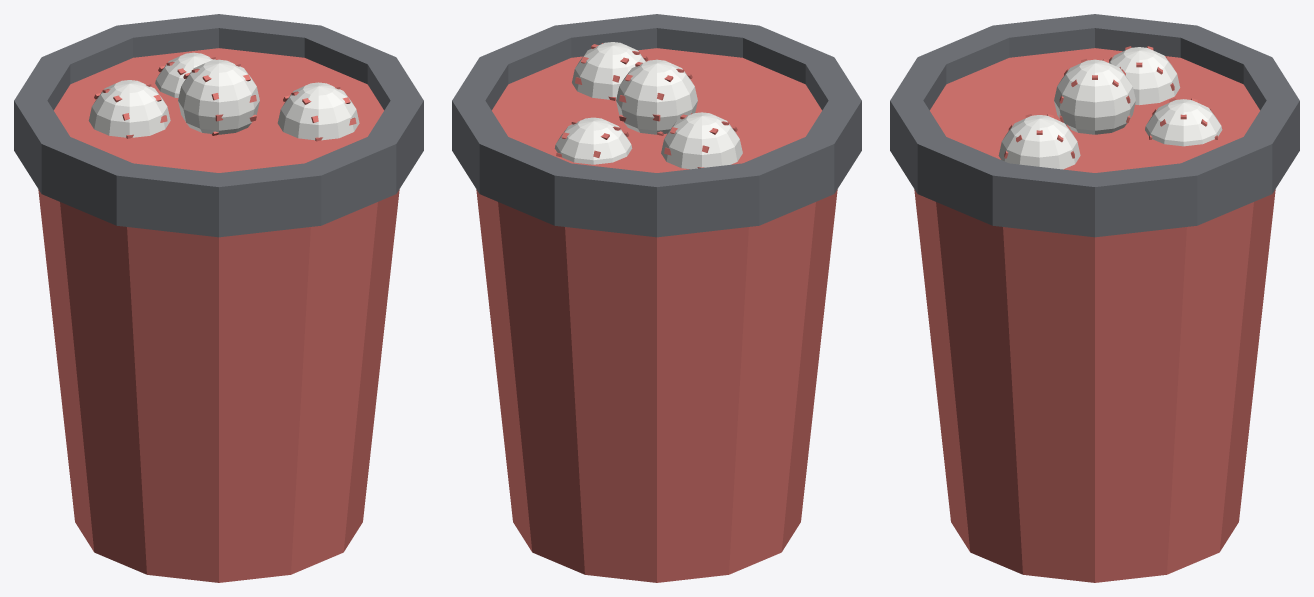
Rendered from baseball-park-and-batting-cages-ball-bucket-b0ea3d5b__33760.glb.
3 views of the same model, side by side, from view 1: azimuth 30°, elevation 25°; view 2: azimuth 150°, elevation 25°; view 3: azimuth 270°, elevation 25° (orthographic).
Visible parts, largest first — view 1: ball-bucket; view 2: ball-bucket; view 3: ball-bucket.
Part boxes in pixels (<box>): ball-bucket: <box>14,14,423,582</box>; ball-bucket: <box>452,14,861,582</box>; ball-bucket: <box>890,14,1299,582</box>.
Bounding box in the file's own units: 0.37 × 0.457 × 0.37.
